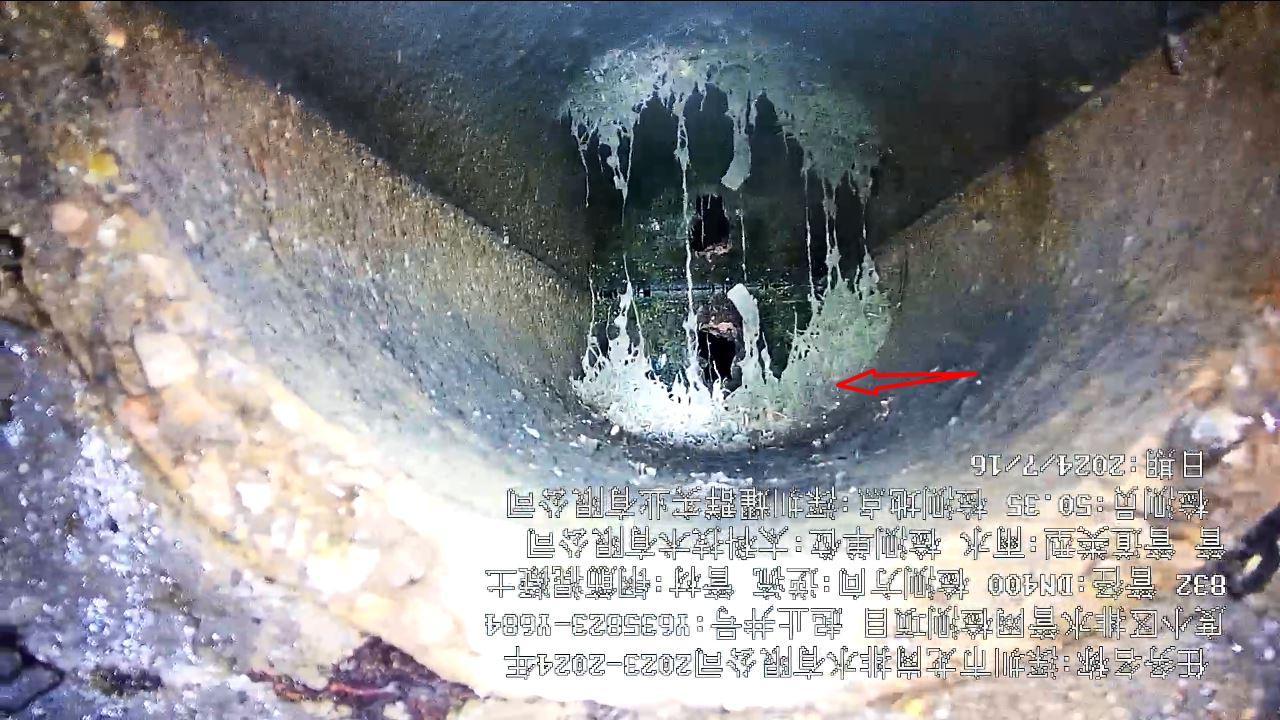SG: (570, 249, 892, 448)
